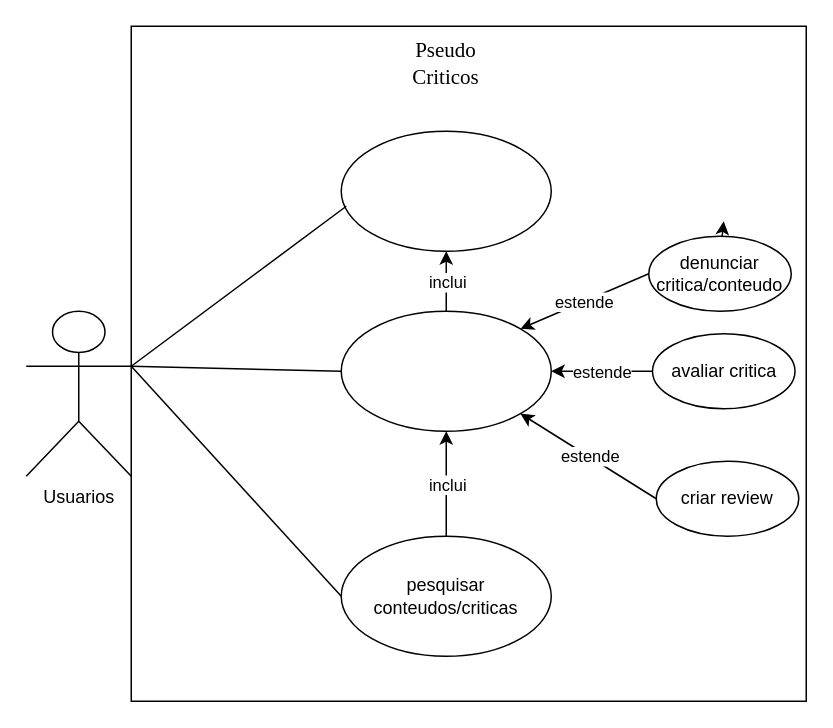
Image size: 833x728. Some labels were removed from this diagram. The shapes that lost their labels are listed below. From the top down, each one's centre as x and y in pixels, then its label:
At [445,190]: "cadastrar no sistema".
At [445,370]: "logar no sistema".
